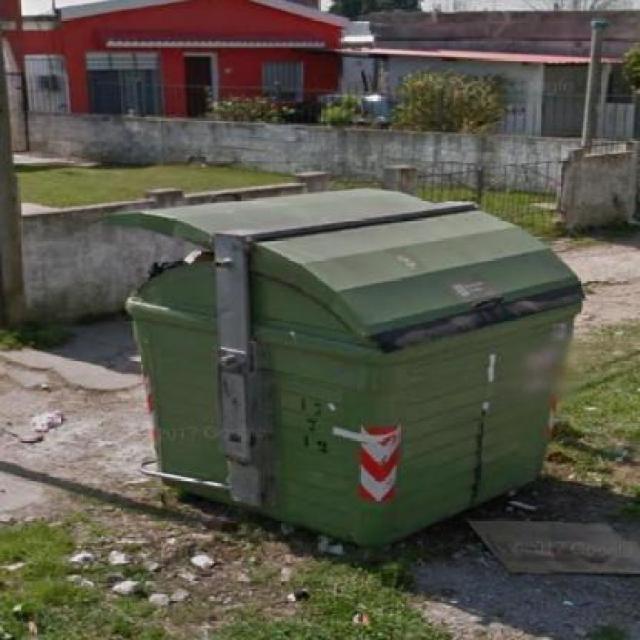garbage: (63, 508, 258, 606), (453, 515, 640, 586), (382, 300, 581, 349), (20, 387, 66, 446)
